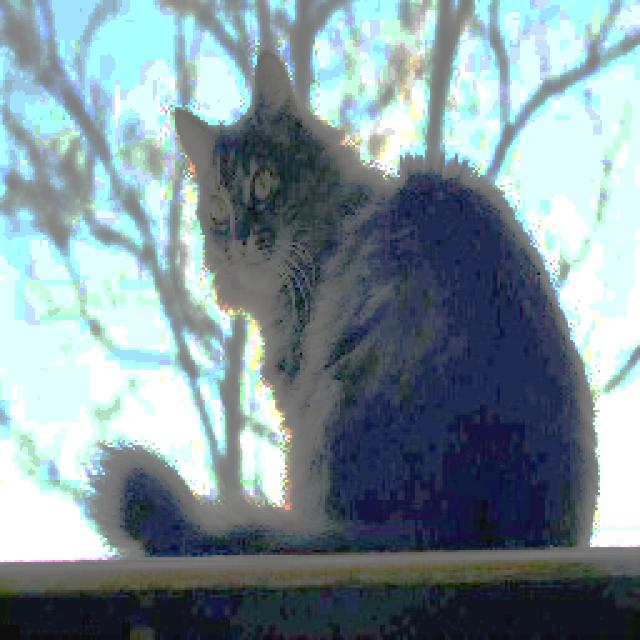cat: (101, 46, 594, 556)
